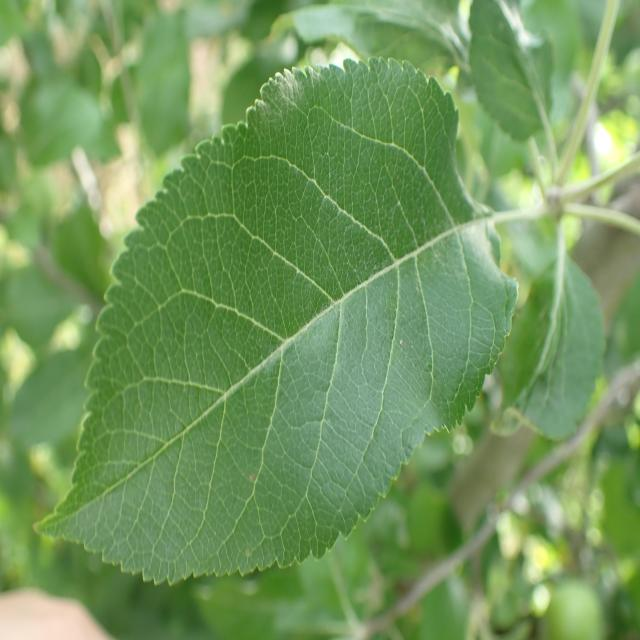healthy: (33, 56, 520, 586), (497, 254, 607, 442), (467, 0, 552, 142)
